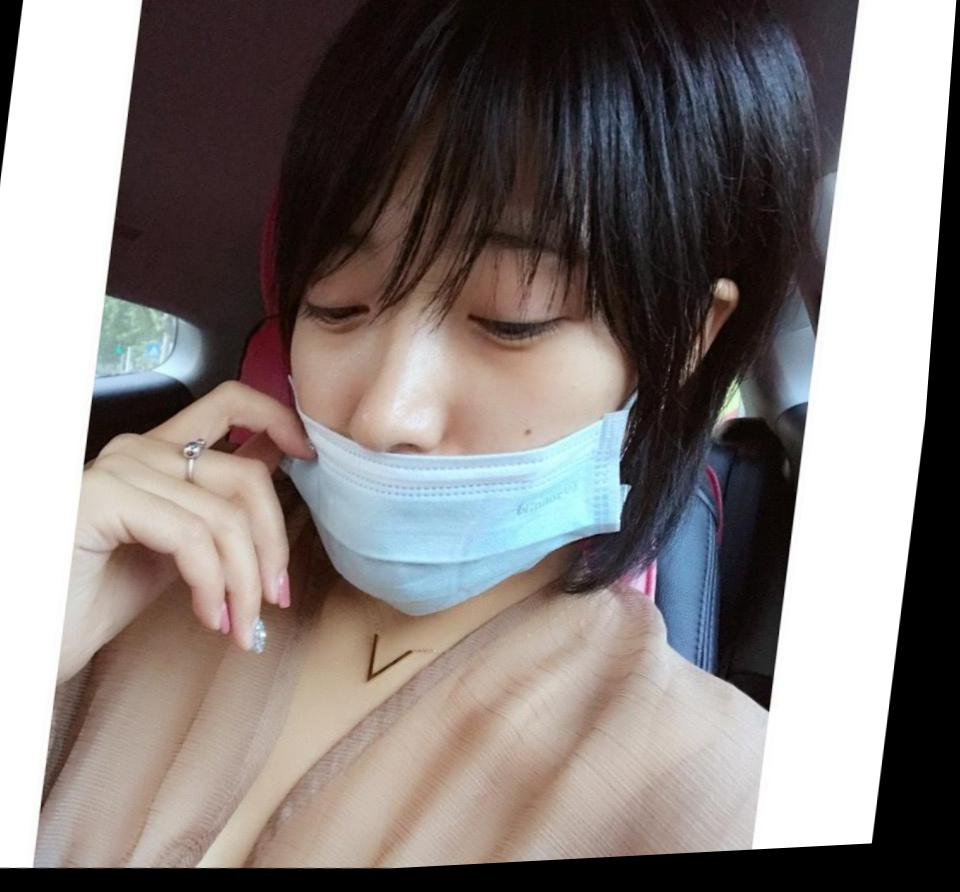WRONG: (253, 145, 681, 643)
